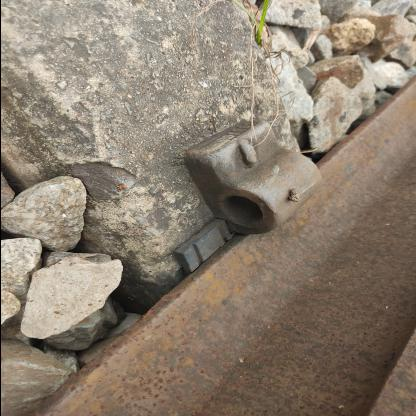Defective 1: (148, 84, 360, 287)
